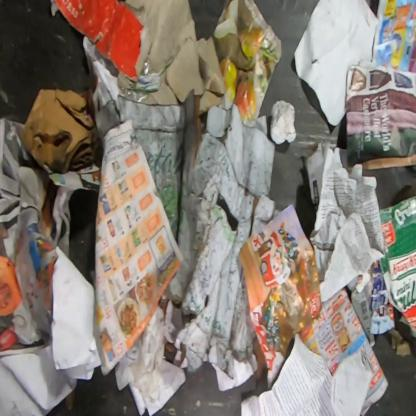cardboard: (160, 87, 278, 392), (94, 93, 186, 243), (50, 0, 145, 80), (19, 87, 101, 176), (378, 195, 415, 338)
